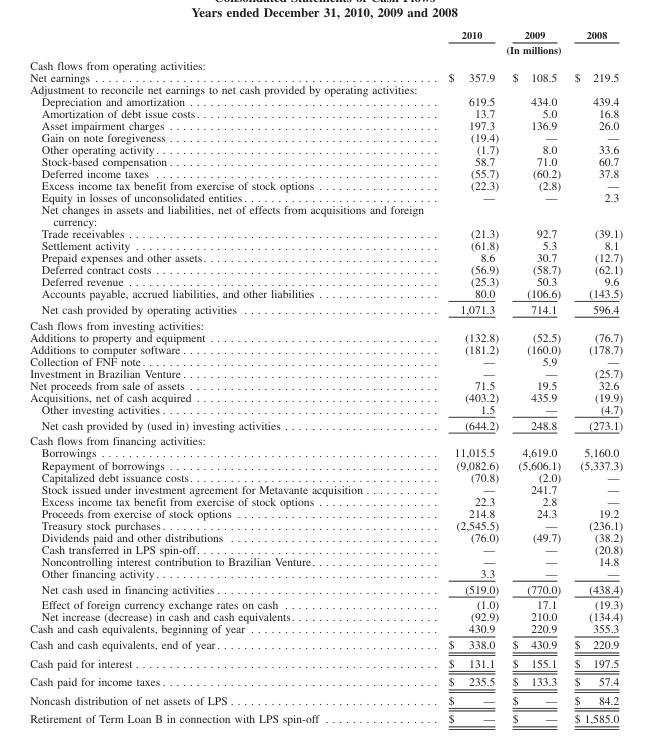table: (29, 28, 622, 724)
table column: (29, 28, 404, 724), (404, 28, 504, 724), (504, 28, 566, 724), (566, 28, 622, 724)
table column header: (29, 28, 622, 56)
table projected row header: (29, 202, 622, 226), (29, 56, 622, 70), (29, 316, 622, 330), (29, 432, 622, 446), (29, 82, 622, 94)
table row: (29, 202, 622, 226), (29, 653, 622, 672), (29, 690, 622, 709), (29, 672, 622, 690), (29, 636, 622, 653), (29, 300, 622, 316), (29, 416, 622, 432), (29, 580, 622, 596), (29, 41, 622, 56), (29, 709, 622, 724), (29, 56, 622, 70), (29, 286, 622, 300), (29, 316, 622, 330), (29, 402, 622, 416), (29, 432, 622, 446), (29, 566, 622, 580), (29, 596, 622, 610), (29, 622, 622, 636), (29, 28, 622, 41), (29, 70, 622, 82), (29, 82, 622, 94), (29, 94, 622, 106), (29, 106, 622, 118), (29, 118, 622, 130), (29, 130, 622, 142), (29, 142, 622, 154), (29, 154, 622, 166), (29, 166, 622, 178), (29, 178, 622, 190), (29, 190, 622, 202), (29, 226, 622, 238), (29, 238, 622, 250), (29, 250, 622, 262), (29, 262, 622, 274), (29, 274, 622, 286), (29, 330, 622, 342), (29, 342, 622, 354), (29, 354, 622, 366), (29, 366, 622, 378), (29, 378, 622, 390), (29, 390, 622, 402), (29, 446, 622, 458), (29, 458, 622, 470), (29, 470, 622, 482), (29, 482, 622, 494), (29, 494, 622, 506), (29, 506, 622, 518), (29, 518, 622, 530), (29, 530, 622, 542), (29, 542, 622, 554), (29, 554, 622, 566), (29, 610, 622, 622)
table spanning cell: (404, 41, 622, 56)
